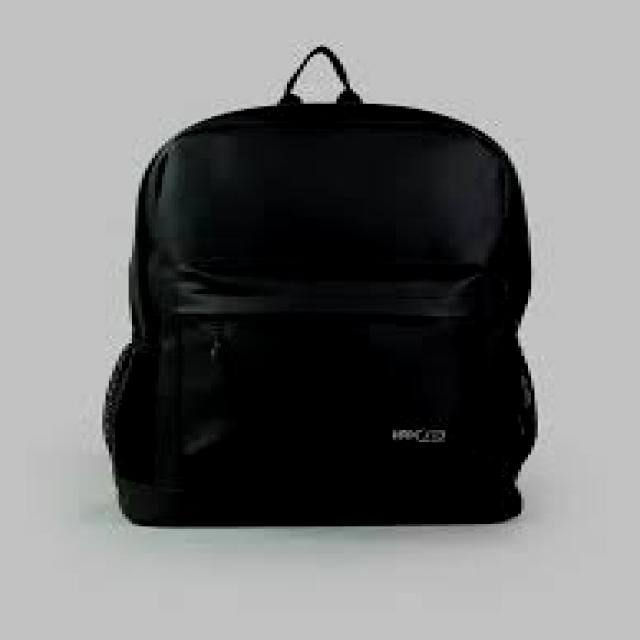backpack: (100, 46, 539, 528)
